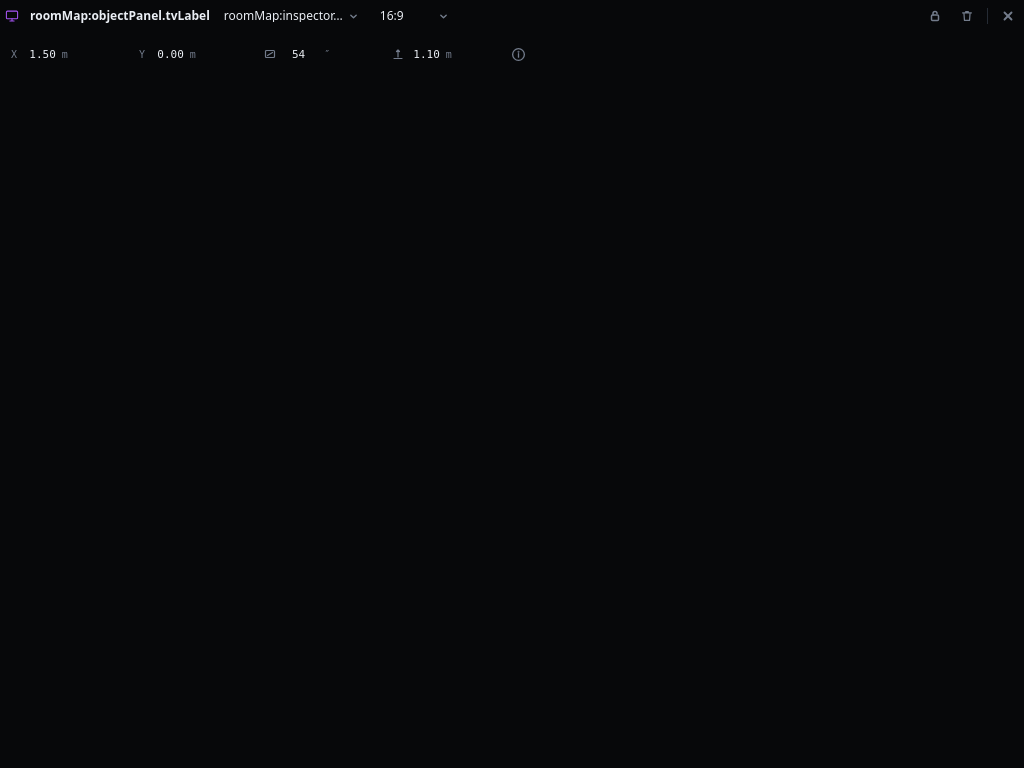
it: TvAnchorInspector mount height › puts the old value back for a height at or below the floor
Replace the text in the number field named "roomMap:inspector.tvMountHeightLabel" with "-1" at (425, 54), box [410,38,440,70]
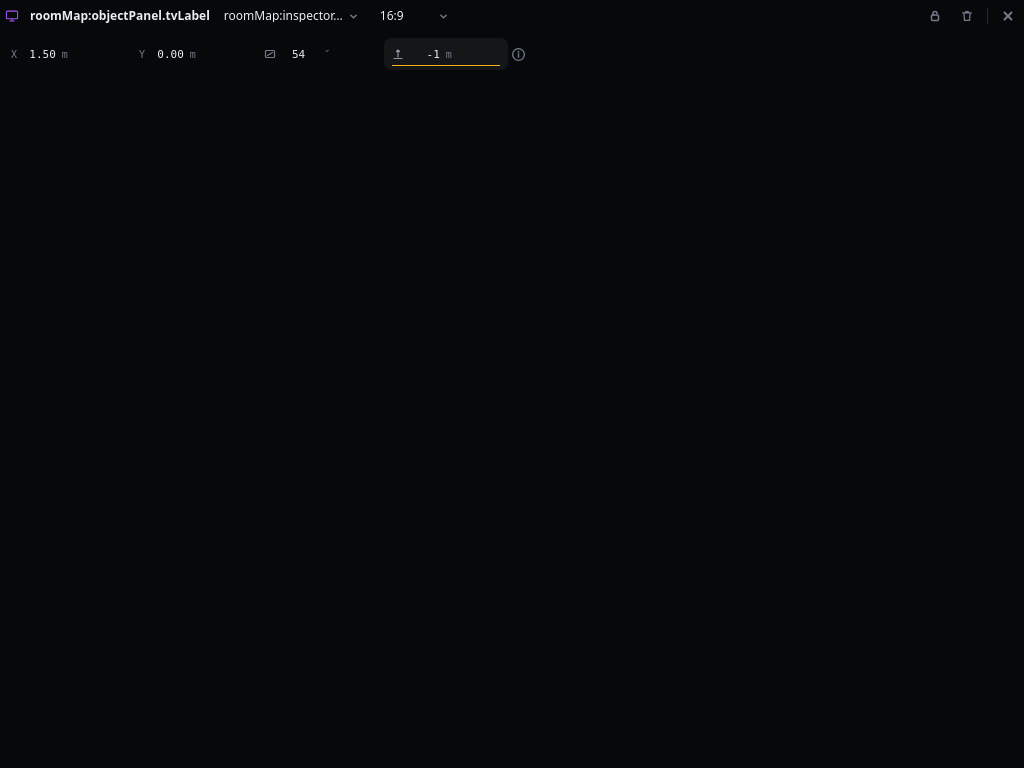
Press Enter in the number field named "roomMap:inspector.tvMountHeightLabel", box [410,38,440,70]
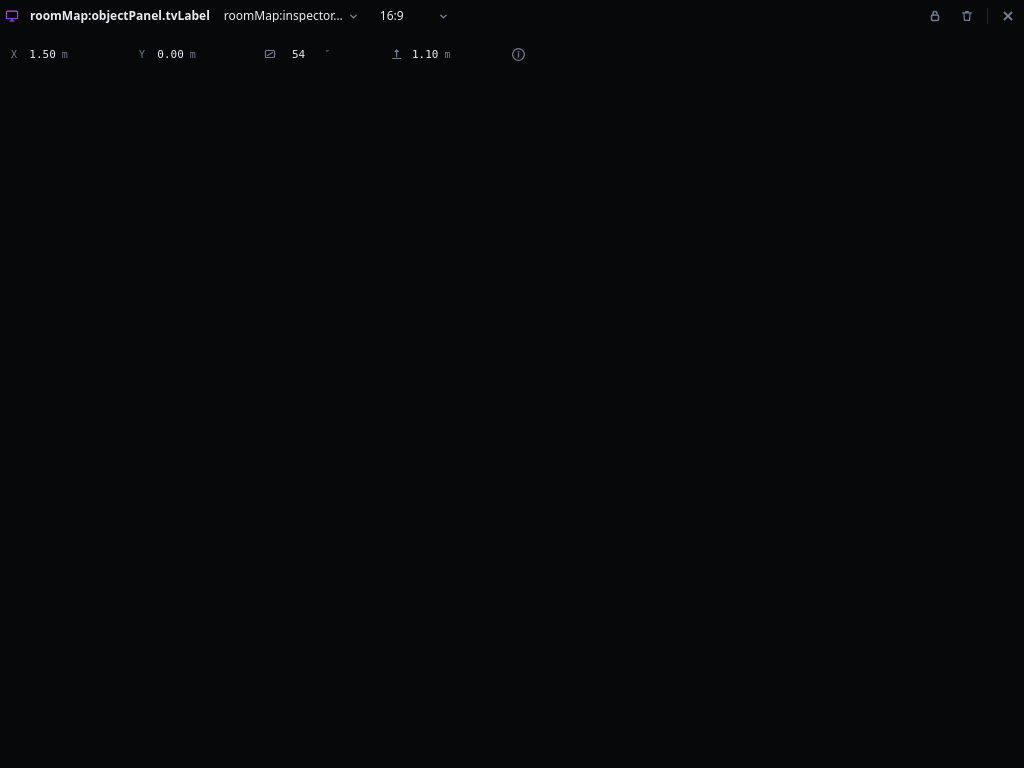
Result: the number field named "roomMap:inspector.tvMountHeightLabel" holds "1.10" at [409,38,438,70]
